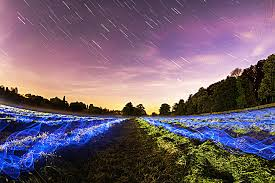field: (8, 96, 270, 183)
sky: (3, 2, 252, 92)
